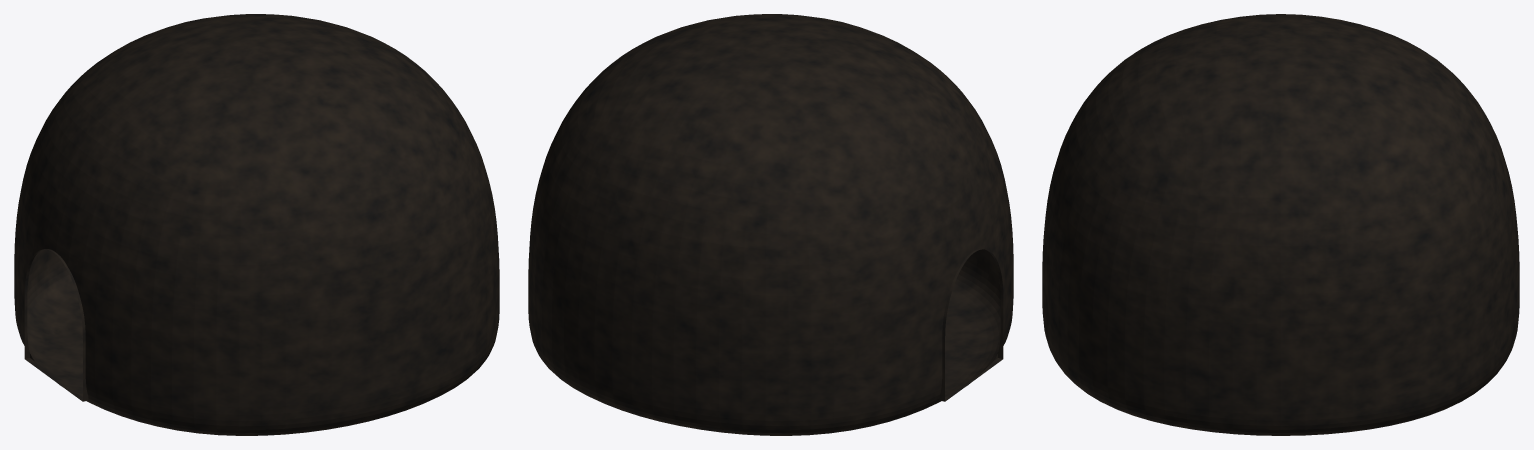
File: Cave_Tutorial.fbx
The picture shows the model from 3 angles, left to right: view 1: azimuth 30°, elevation 25°; view 2: azimuth 150°, elevation 25°; view 3: azimuth 270°, elevation 25°; orthographic projection.
Parts seen in each view (by area): view 1: Cave_Turorial; view 2: Cave_Turorial; view 3: Cave_Turorial.
Boxes of the visible parts, x1,y1,x2,y2 form: Cave_Turorial: (14,14,499,435); Cave_Turorial: (528,14,1013,435); Cave_Turorial: (1042,14,1519,435).
Bounding box in the file's own units: 455 × 322 × 458.
1 material, 1 textured.
